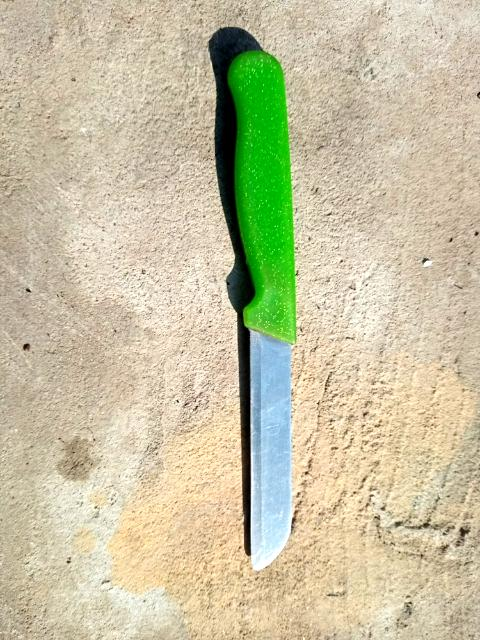Knife: (228, 52, 296, 569)
